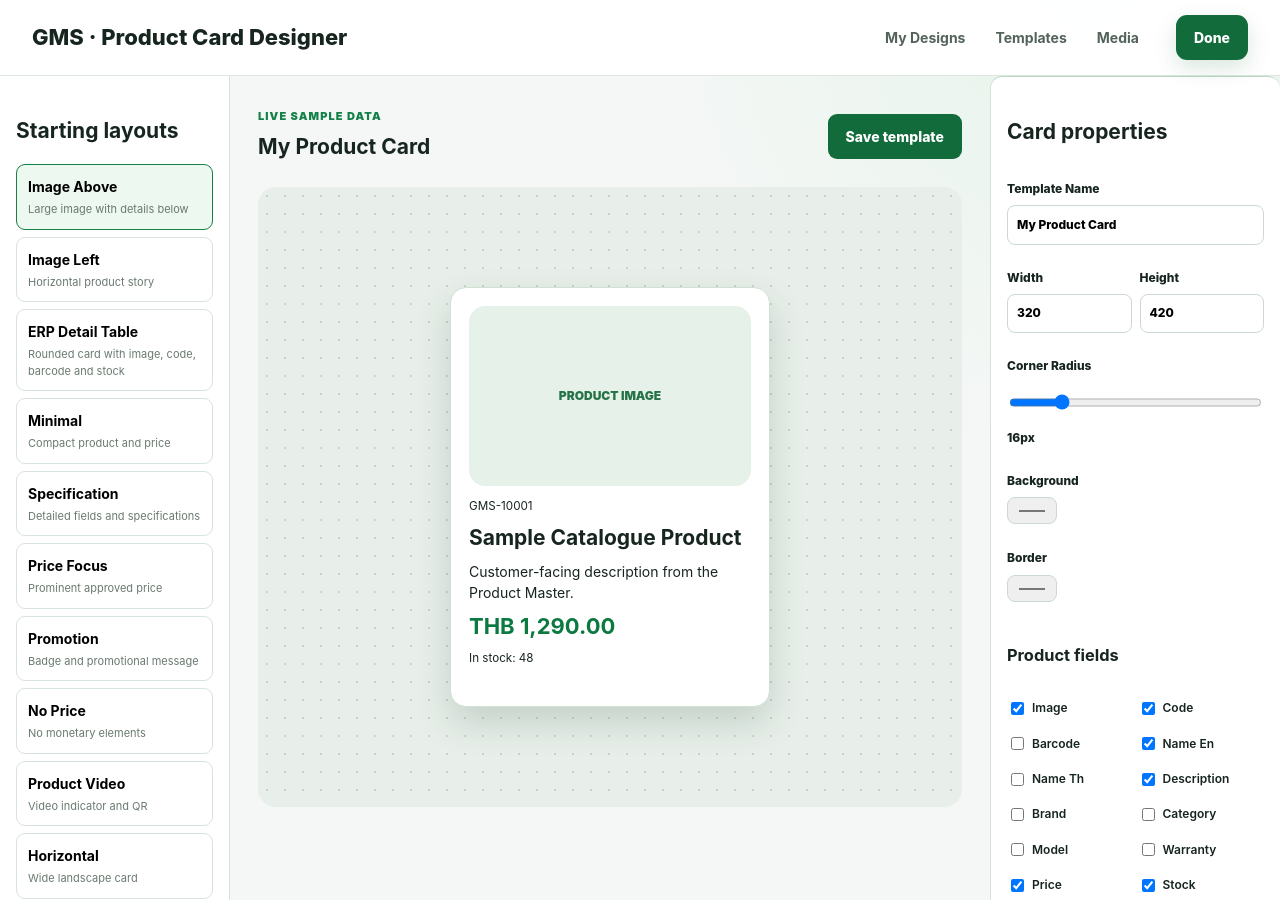
Scenario: ProductCardDesigner › saves field bindings and card style as a reusable template
Check: the button "Image Above Large image with details below" is shown, box [16,164,213,230]
Click the button "Save template".
click(895, 136)  # box [828,114,962,159]
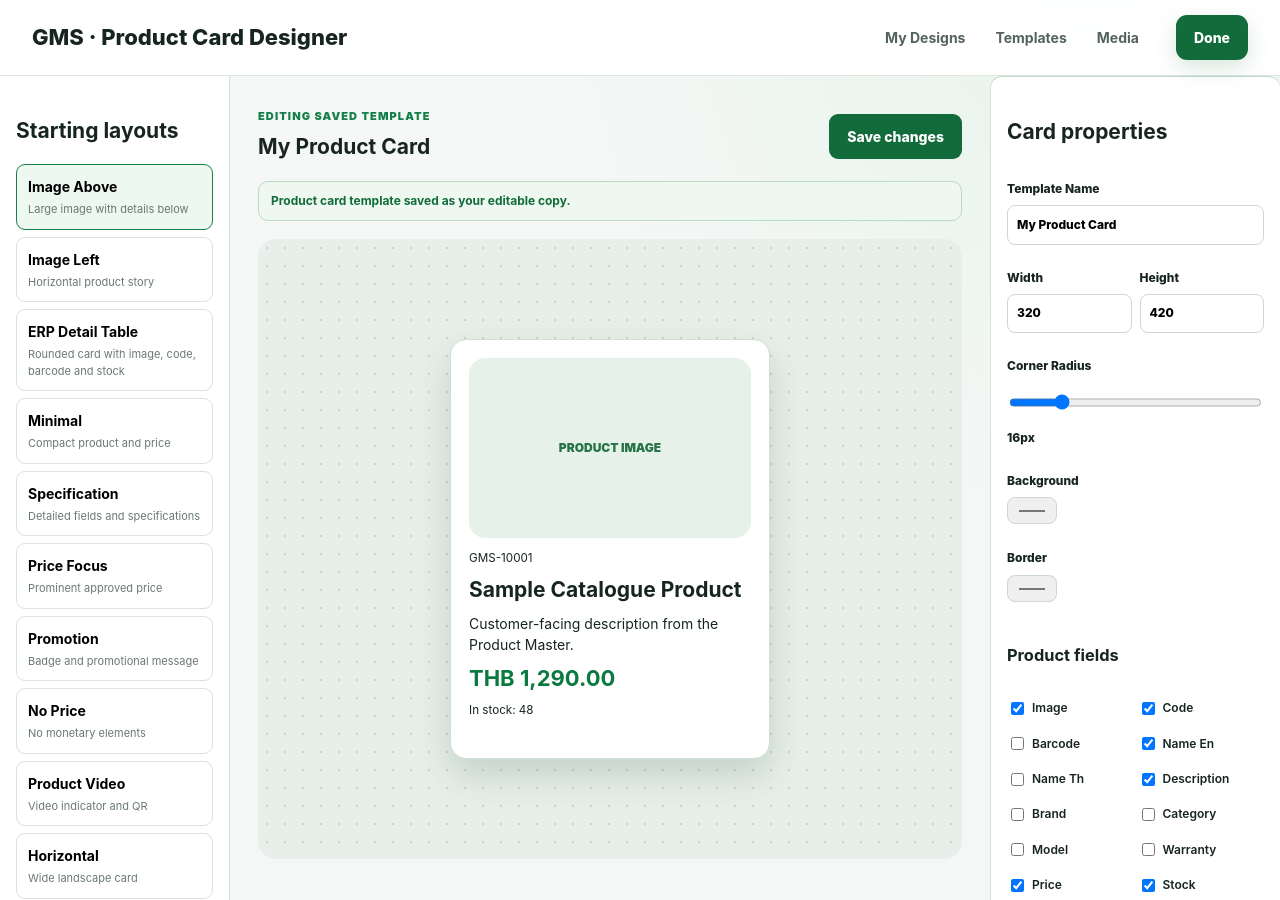
Check: the text "Product card template saved as your editable copy." is shown, box [258,180,962,220]
